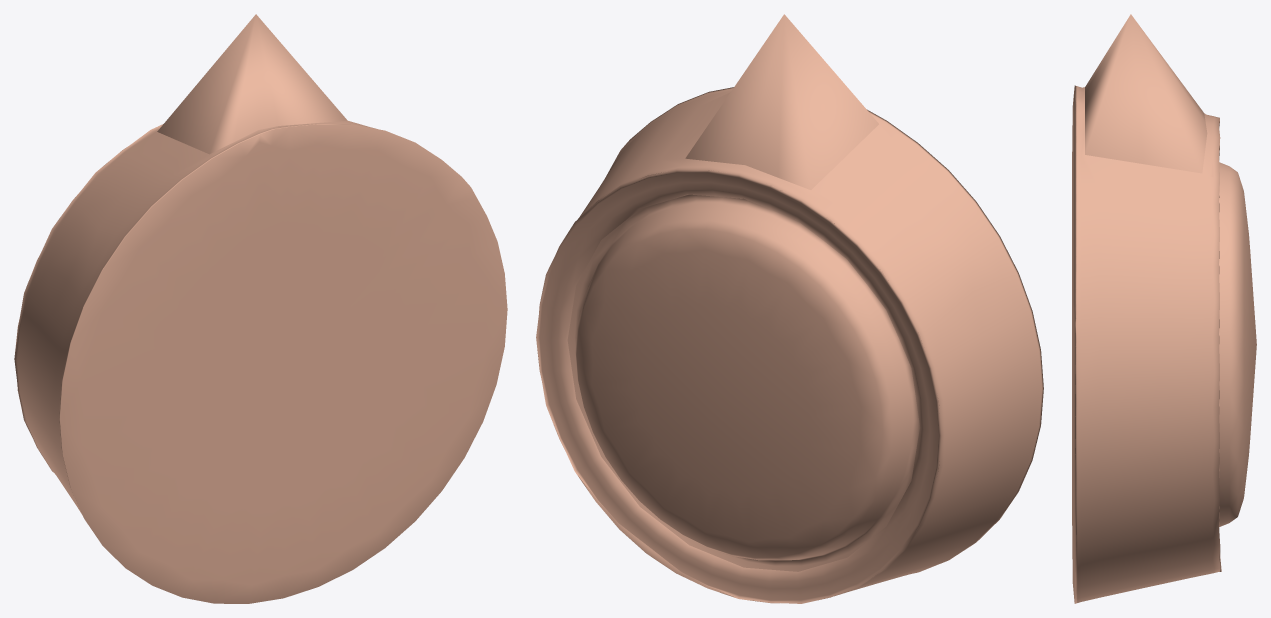
File: Question_arrow.fbx
The picture shows the model from 3 angles, left to right: view 1: azimuth 30°, elevation 25°; view 2: azimuth 150°, elevation 25°; view 3: azimuth 270°, elevation 25°; orthographic projection. The views are drawn at different scales.
Visible parts, largest first — view 1: polySurface1; view 2: polySurface1; view 3: polySurface1.
Part boxes in pixels (x1,y1,x2,y2): polySurface1: (14, 14, 507, 603); polySurface1: (536, 14, 1043, 603); polySurface1: (1072, 14, 1256, 603).
Bounding box in the file's own units: 48.45 × 58.3 × 17.25.
